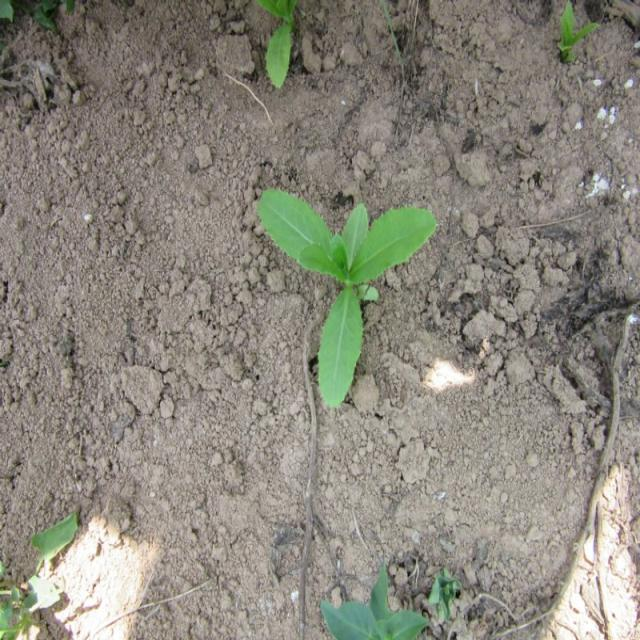field_thistle: (232, 143, 437, 410)
